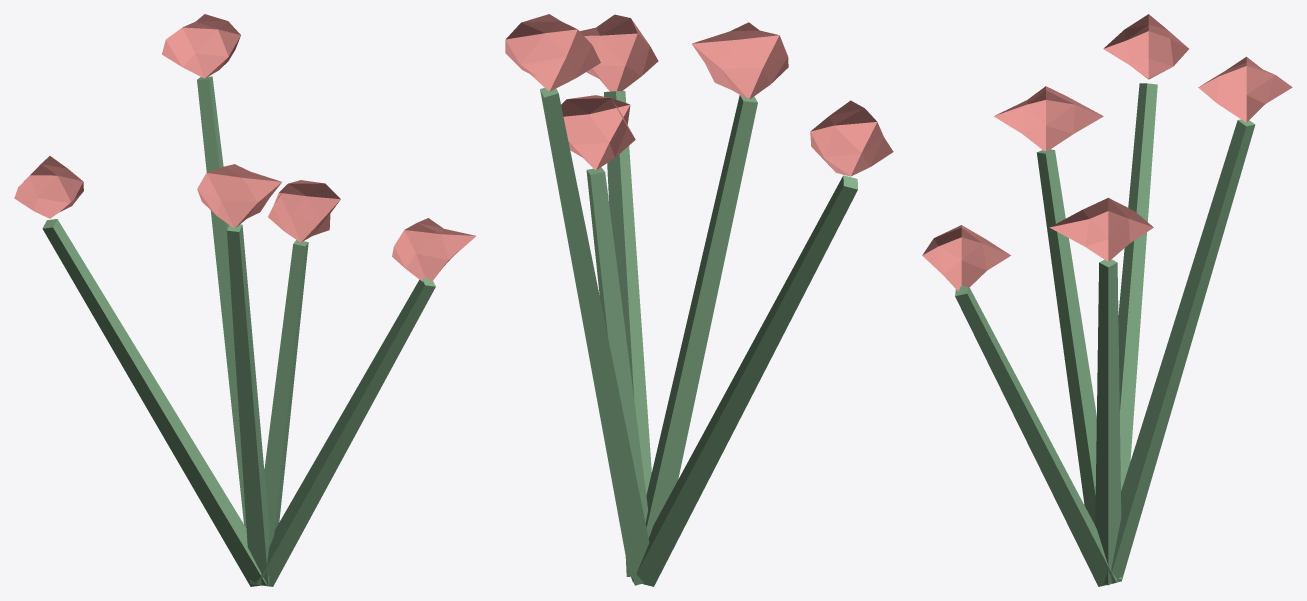
The model's file is flower_v43.glb.
3 views of the same model, side by side, from view 1: azimuth 30°, elevation 25°; view 2: azimuth 150°, elevation 25°; view 3: azimuth 270°, elevation 25° (orthographic). The views are drawn at different scales.
Visible parts, largest first — view 1: lod0; view 2: lod0; view 3: lod0.
Part boxes in pixels (bbox=[...]): lod0: bbox=[14, 14, 476, 586]; lod0: bbox=[505, 14, 893, 586]; lod0: bbox=[922, 14, 1292, 586].
Size of what is drawn, in the model's own units: 0.5704 by 0.7625 by 0.481.
